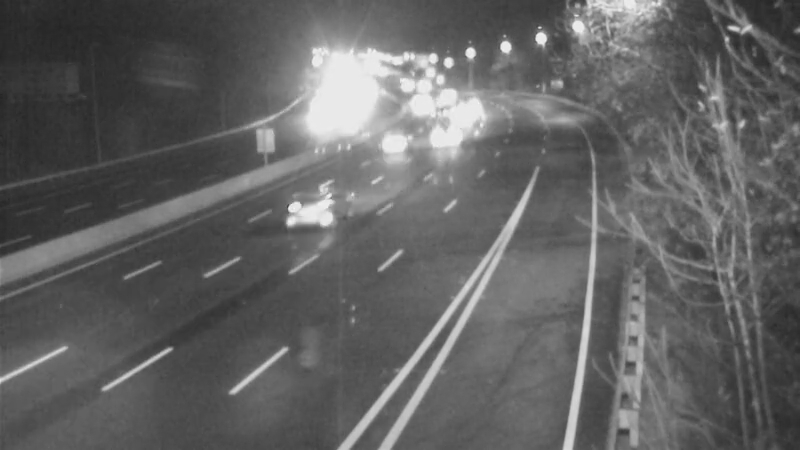vehicle: (268, 176, 348, 256), (393, 85, 443, 135), (443, 80, 493, 130), (433, 91, 483, 141), (416, 111, 466, 161), (364, 117, 414, 167), (292, 102, 342, 152)
